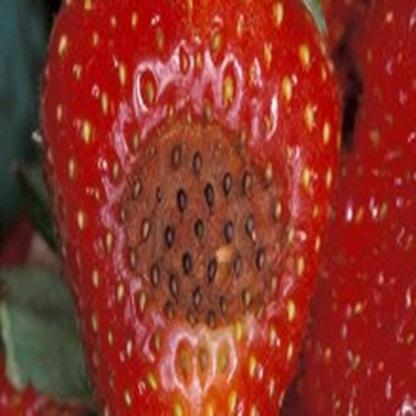Strawberry_Anthracnose_Fruit_Rot: (91, 95, 301, 349)
